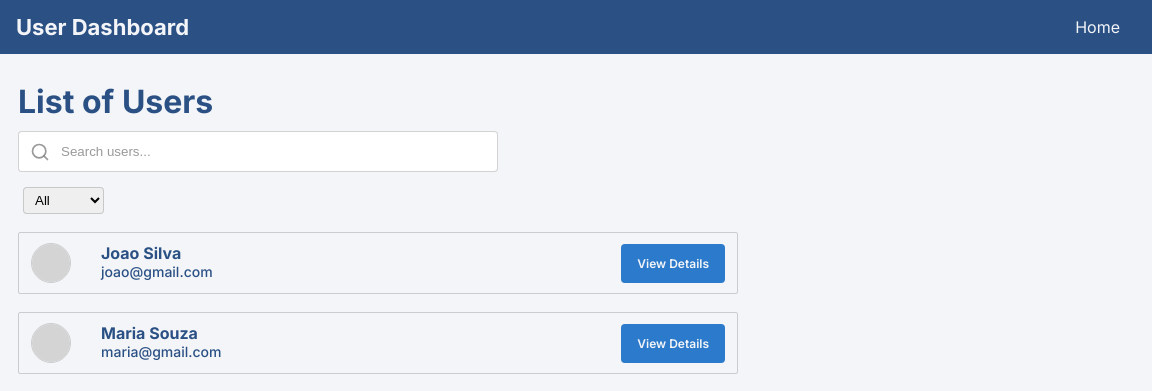
Test: Users E2E › deve filtrar usuarios por genero
The image size is (1152, 391).
Select "Female" in the dropdown. click: x=64, y=201
box: [23,187,104,214]
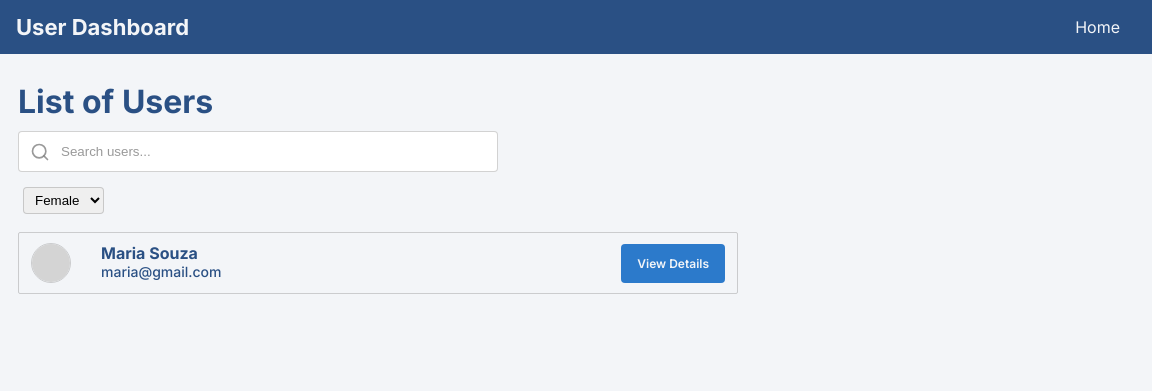
Expected: the heading "Maria Souza" is shown, [101,243,198,263]
Expected: the number of list items with class "Users" is 1, [18,232,738,294]
Expected: the heading "Joao Silva" is gone
